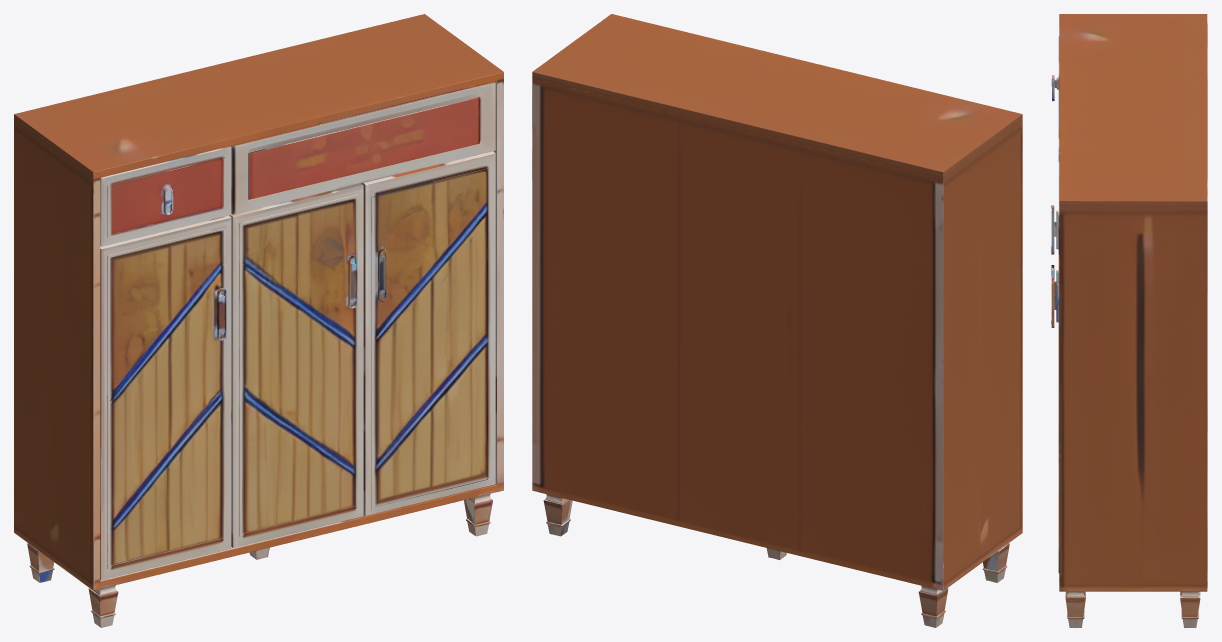
Rendered from edited_mesh.glb.
3 renders of one model, left to right at view 1: azimuth 30°, elevation 25°; view 2: azimuth 150°, elevation 25°; view 3: azimuth 270°, elevation 25°, orthographic. The views are drawn at different scales.
Parts seen in each view (by area): view 1: solid_001_wire; view 2: solid_001_wire; view 3: solid_001_wire.
Boxes of the visible parts, left/top/right/bottom form: solid_001_wire: left=14, top=14, right=503, bottom=627; solid_001_wire: left=532, top=14, right=1022, bottom=627; solid_001_wire: left=1051, top=14, right=1207, bottom=627.
Bounding box in the file's own units: 1.27 × 1.37 × 0.4471.
Materials: 1 (1 with a texture image).
